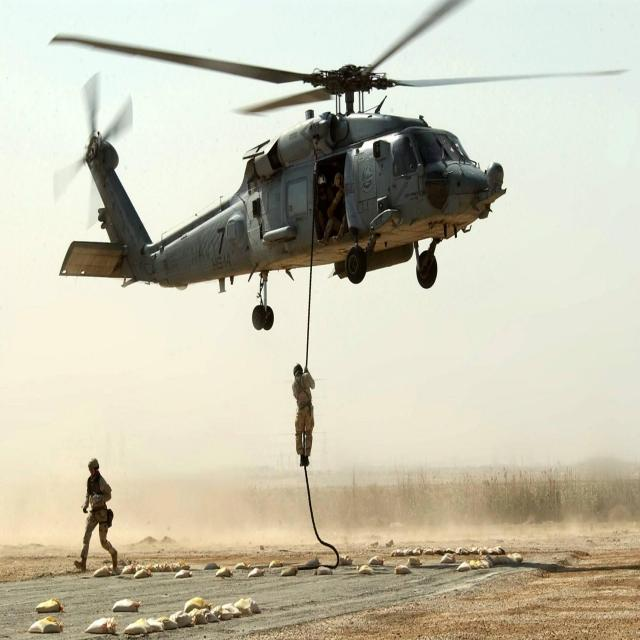MIL_HELO: (46, 0, 632, 336)
